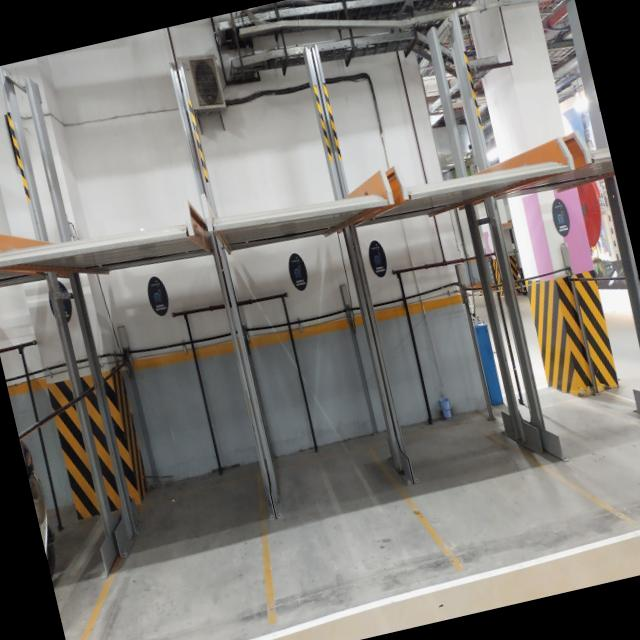free: (83, 475, 280, 640), (264, 429, 418, 614), (429, 409, 566, 564)
